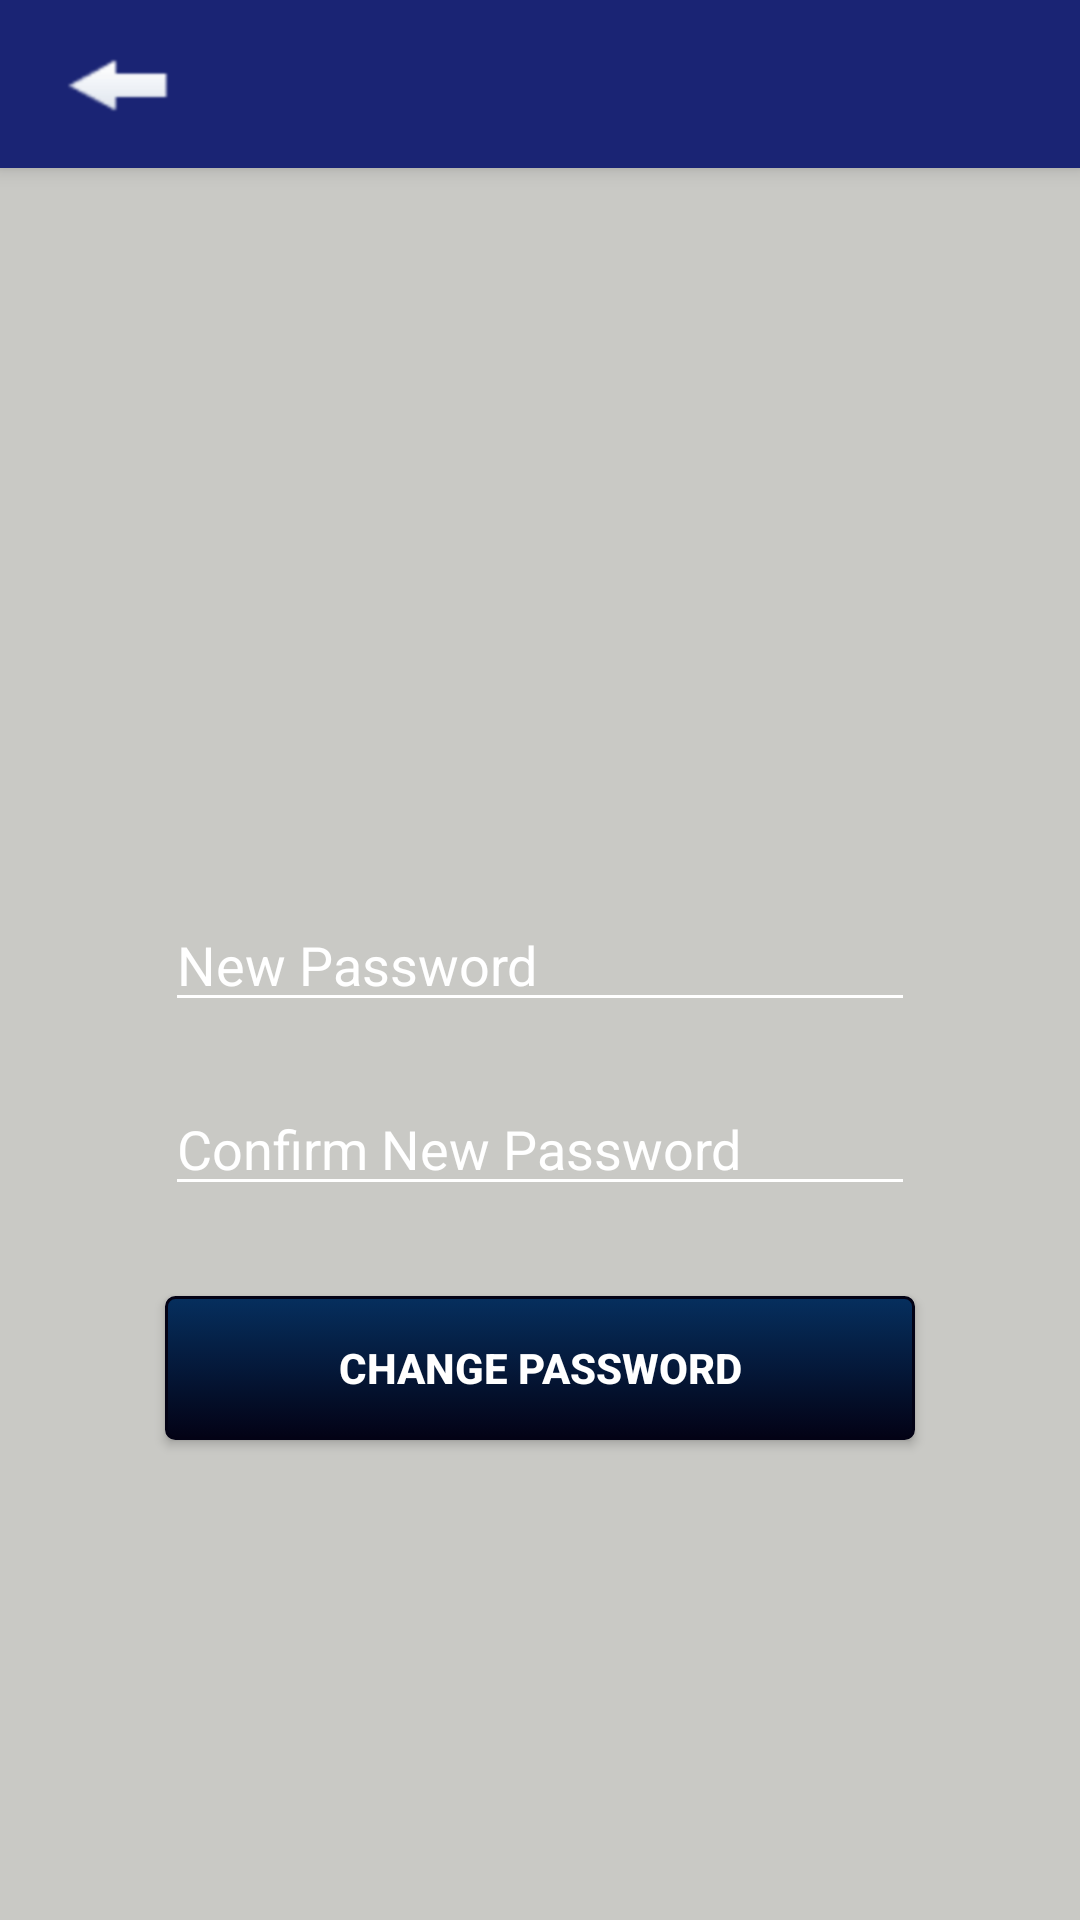

Locate icon controls on the screen. Image size 1080px x 1920px, boxes as (x1, y1, x2, y2).
backbutton: (68, 60, 168, 111)
